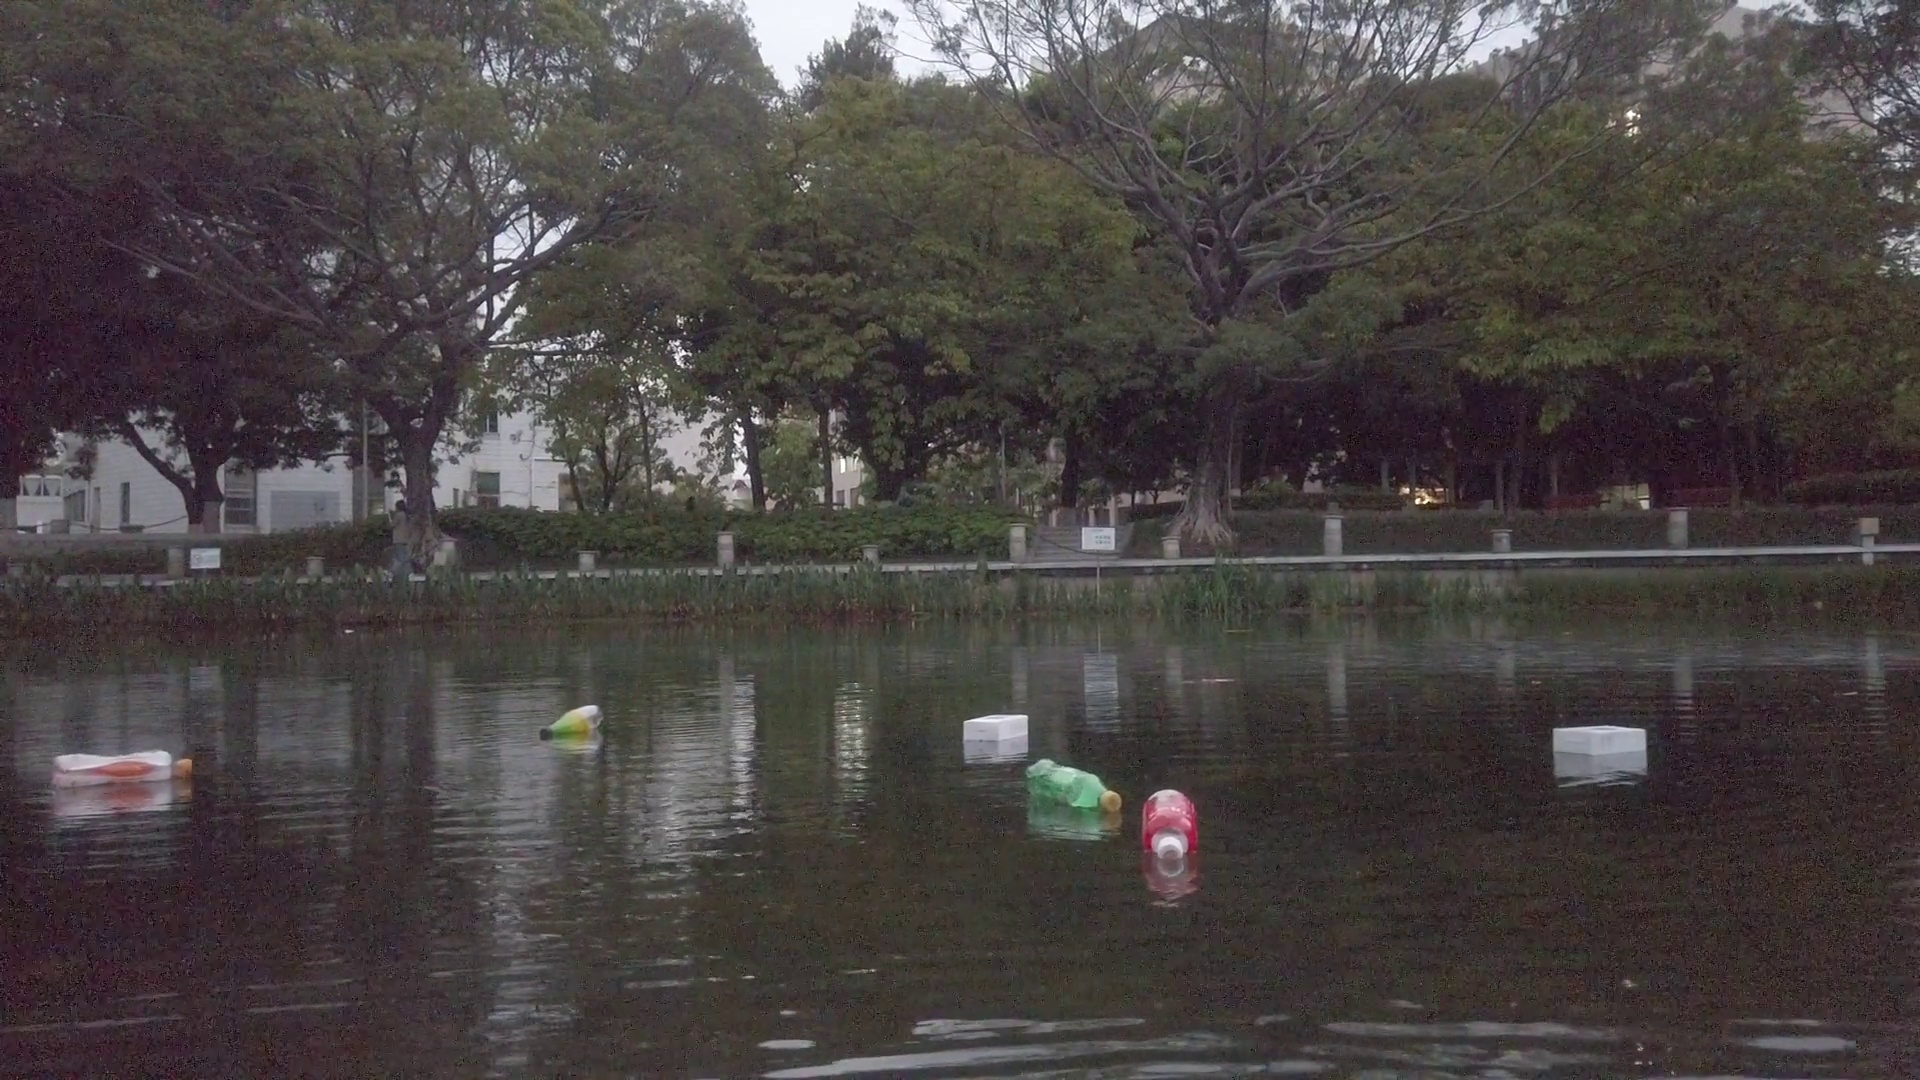bottle: (1025, 750, 1124, 815), (1139, 785, 1201, 864), (51, 752, 193, 786), (541, 702, 603, 738)
carton: (1553, 727, 1648, 754), (964, 713, 1030, 740)
